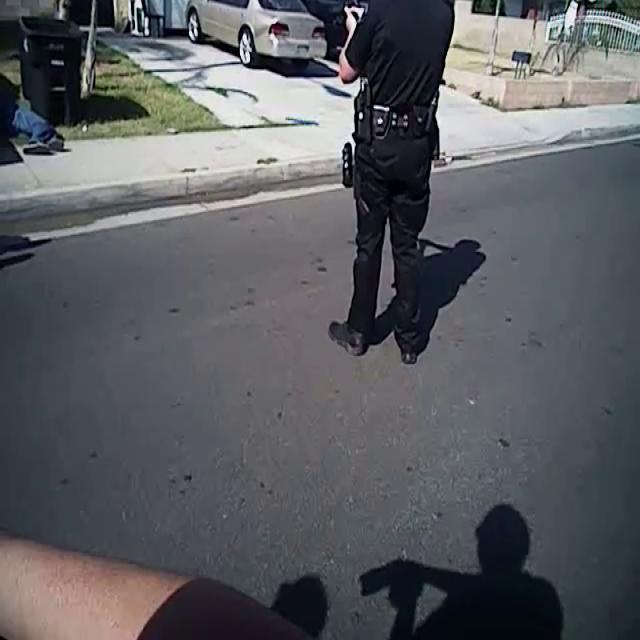gun: (323, 0, 373, 28)
